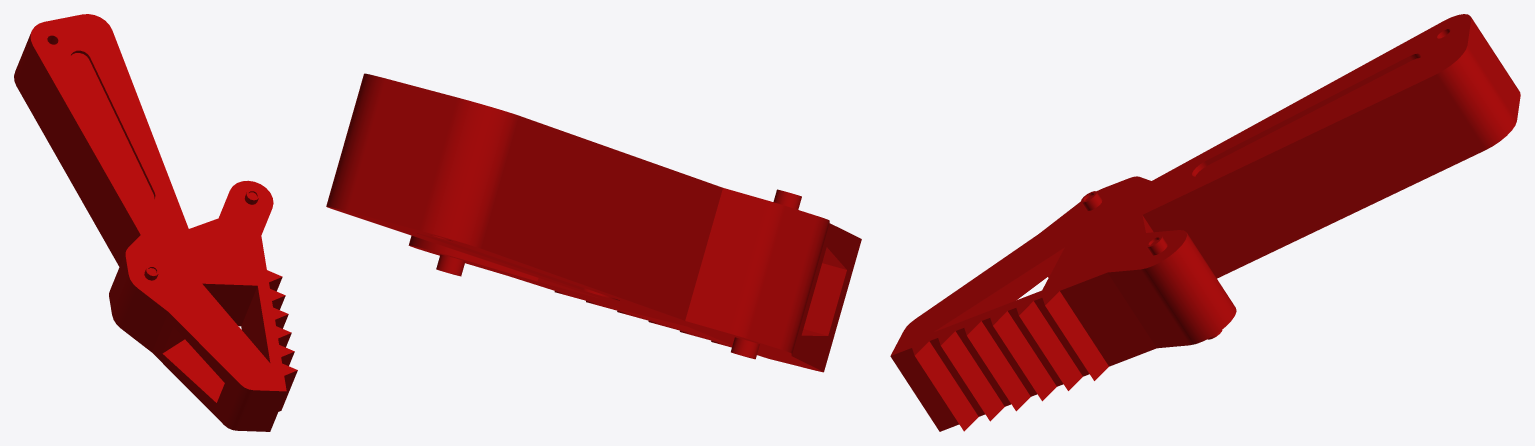
Rendered from Parallel_Gripper.glb.
The picture shows the model from 3 angles, left to right: view 1: azimuth 30°, elevation 25°; view 2: azimuth 150°, elevation 25°; view 3: azimuth 270°, elevation 25°; orthographic projection. The views are drawn at different scales.
Parts seen in each view (by area): view 1: Solid1.007; view 2: Solid1.007; view 3: Solid1.007.
Boxes of the visible parts, x1=… form: Solid1.007: x1=14, y1=14, x2=297, y2=431; Solid1.007: x1=326, y1=73, x2=861, y2=372; Solid1.007: x1=890, y1=14, x2=1520, y2=431.
Size of the model in its own units: 0.0495 by 0.08 by 0.1177.
